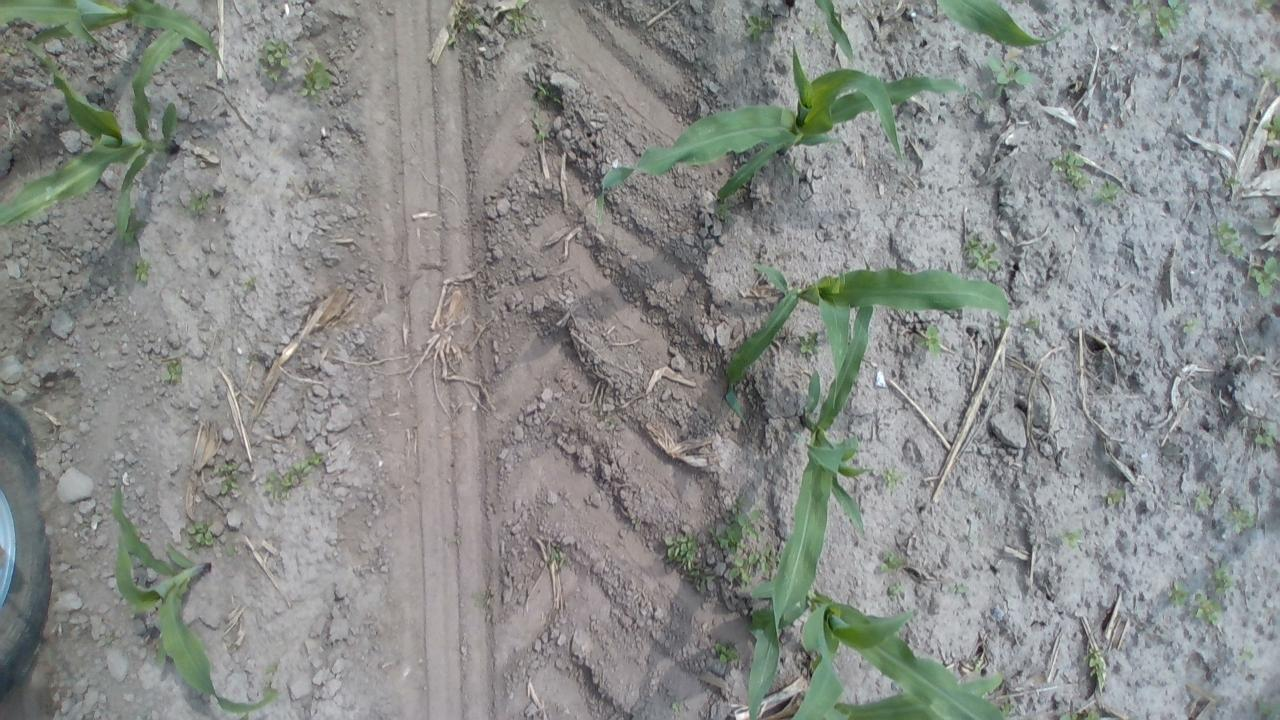Maize: (591, 43, 987, 232), (748, 256, 879, 720), (725, 262, 1016, 428), (0, 24, 202, 248), (106, 470, 285, 716), (748, 583, 1019, 720), (0, 0, 238, 89), (806, 0, 1076, 53), (830, 673, 1014, 720)
Weeds: (264, 450, 324, 504), (711, 503, 762, 551), (1048, 148, 1092, 197), (958, 234, 1006, 278), (984, 55, 1032, 97), (732, 6, 781, 46), (660, 528, 706, 570), (255, 38, 294, 82), (1211, 219, 1247, 262), (299, 59, 336, 100), (1154, 0, 1188, 39), (1249, 256, 1280, 296), (1094, 180, 1132, 212), (1190, 591, 1224, 625), (531, 80, 567, 112), (1083, 646, 1111, 686), (877, 546, 913, 574), (1212, 562, 1240, 598), (1259, 112, 1280, 160), (1222, 503, 1254, 534), (212, 458, 238, 496), (186, 188, 218, 218), (496, 3, 526, 33), (710, 641, 743, 668), (918, 325, 946, 356), (688, 564, 716, 594), (749, 545, 778, 573), (729, 554, 754, 586), (186, 521, 214, 549), (1058, 706, 1112, 720), (598, 410, 623, 440), (530, 118, 556, 146), (158, 360, 185, 386), (1190, 486, 1215, 514), (796, 328, 820, 357), (1252, 427, 1280, 451), (458, 8, 482, 36), (995, 698, 1026, 719), (1249, 699, 1280, 720), (1164, 579, 1188, 606), (1058, 528, 1086, 551), (712, 200, 736, 226), (131, 256, 151, 286), (1106, 488, 1130, 512), (879, 465, 901, 490), (472, 588, 496, 610), (1260, 66, 1280, 92), (969, 652, 988, 676), (1221, 173, 1245, 192), (548, 544, 564, 569), (1180, 320, 1198, 340), (885, 580, 903, 599), (224, 545, 244, 562), (1025, 316, 1044, 332), (1127, 0, 1148, 13), (670, 700, 689, 714), (950, 581, 970, 594), (265, 661, 280, 678), (1256, 0, 1280, 10), (244, 276, 258, 292)
